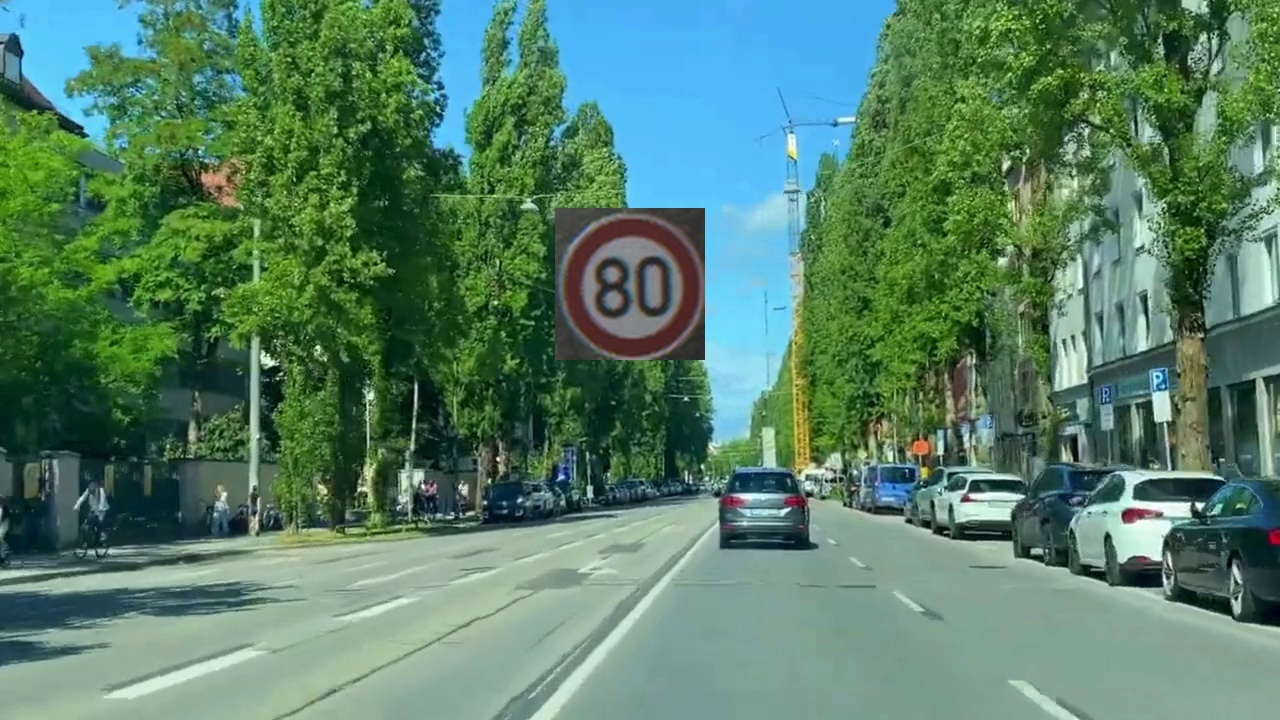Speed 80: (555, 208, 705, 360)
